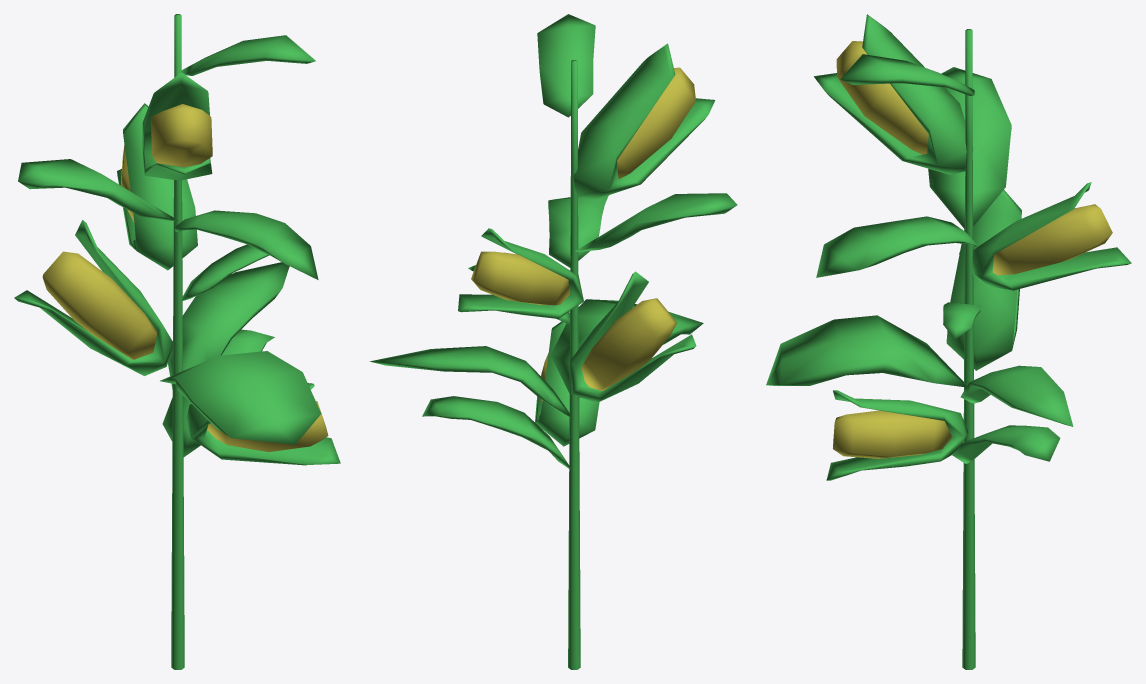
File: Milho_2.fbx
3 views of the same model, side by side, from view 1: azimuth 30°, elevation 25°; view 2: azimuth 150°, elevation 25°; view 3: azimuth 270°, elevation 25° (orthographic). The views are drawn at different scales.
Visible parts, largest first — view 1: Milho_2; view 2: Milho_2; view 3: Milho_2.
Part boxes in pixels (x1,y1,x2,y2): Milho_2: (14, 14, 340, 669); Milho_2: (369, 14, 737, 669); Milho_2: (766, 14, 1131, 669).
Size of the model in its own units: 0.9162 by 0.9465 by 1.76.
